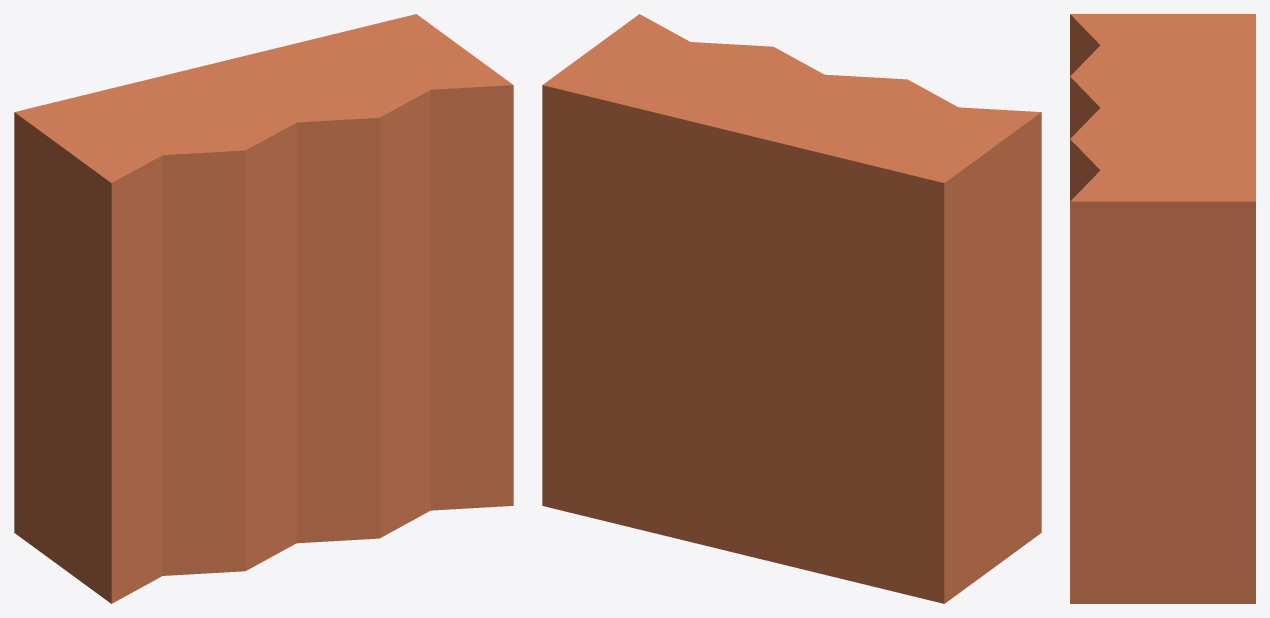
Rendered from cliff_large_rock.dae.
The picture shows the model from 3 angles, left to right: view 1: azimuth 30°, elevation 25°; view 2: azimuth 150°, elevation 25°; view 3: azimuth 270°, elevation 25°; orthographic projection. The views are drawn at different scales.
Parts seen in each view (by area): view 1: cliff_large_rock; view 2: cliff_large_rock; view 3: cliff_large_rock.
Boxes of the visible parts, box(x1,y1,x2,y2) form: cliff_large_rock: box(14, 14, 513, 603); cliff_large_rock: box(542, 14, 1041, 603); cliff_large_rock: box(1070, 14, 1255, 603).
Size of the model in its own units: 1 by 1 by 0.4185.
